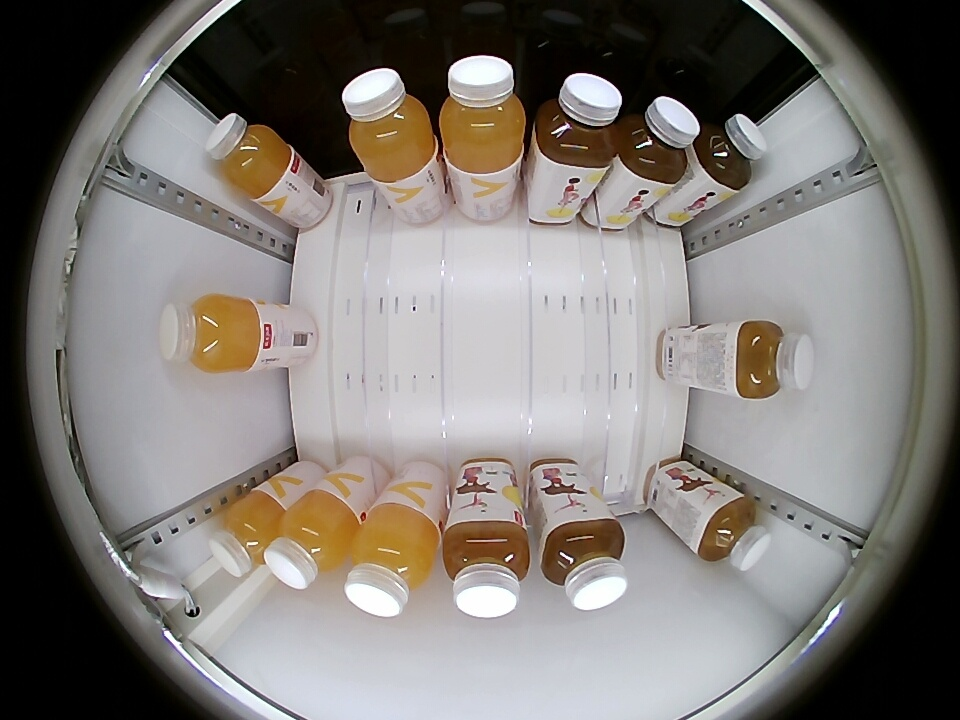chapai: (538, 512, 628, 611), (442, 517, 530, 618), (532, 73, 622, 170), (614, 96, 700, 185), (730, 320, 815, 401), (694, 490, 772, 571), (694, 114, 768, 192)
weic: (344, 505, 440, 618), (342, 68, 438, 180), (438, 55, 527, 172), (265, 490, 360, 589), (158, 294, 263, 374), (206, 113, 292, 200), (210, 490, 287, 578)
